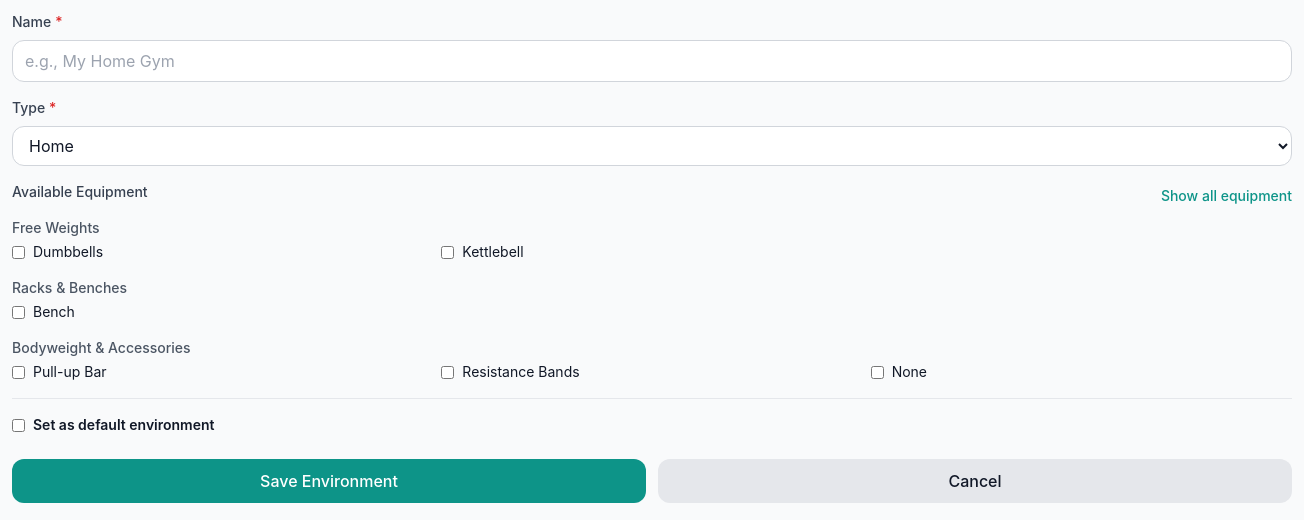
Scenario: TrainingEnvironmentForm › should prefill equipment with the archetype preset when a type is selected
The width and height of the screenshot is (1304, 520).
Select "Powerlifting Gym" in the dropdown labelled "Type *": (652, 146) [12, 126, 1292, 166]
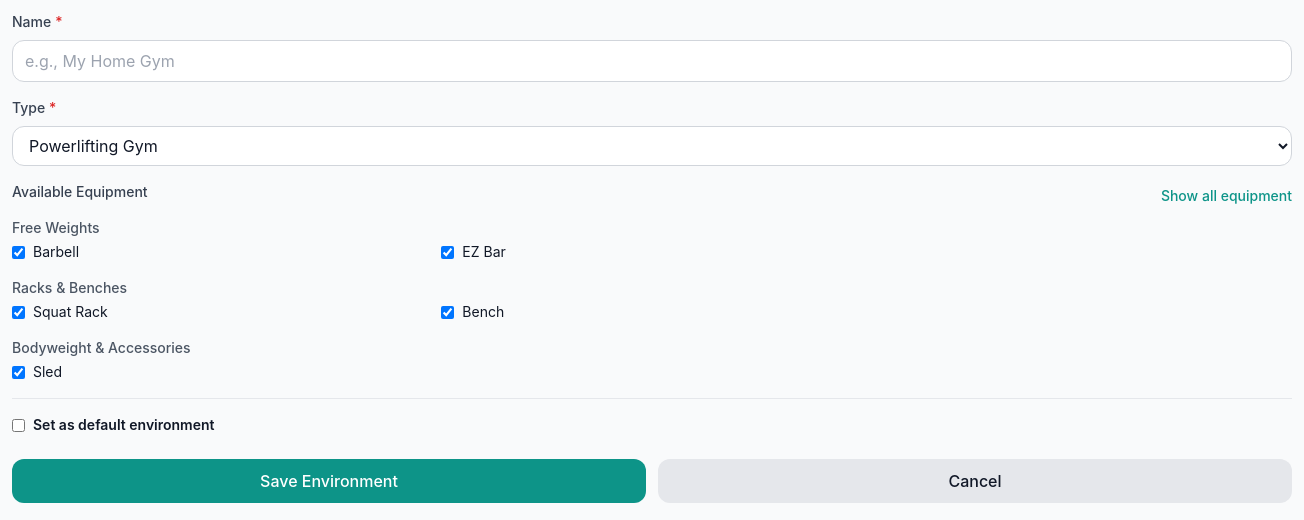
Now the checkbox labelled "Barbell" is checked, box [12, 246, 25, 258]
Now the checkbox labelled "Squat Rack" is checked, box [12, 306, 25, 318]
Now the checkbox labelled "Bench" is checked, box [441, 306, 454, 318]
